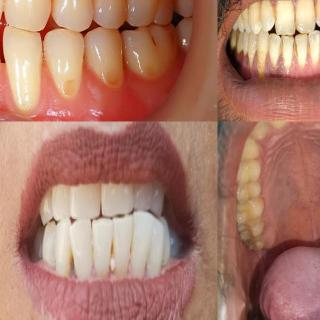Gum Swelling: (28, 65, 115, 122), (0, 65, 20, 111)
calculus: (105, 233, 119, 287), (61, 250, 81, 281), (89, 242, 101, 276)
cavities: (243, 239, 255, 252)
maligned: (132, 210, 152, 280), (70, 220, 94, 276), (149, 211, 163, 279), (260, 122, 292, 134)
stains: (291, 4, 303, 35), (176, 0, 200, 14), (250, 1, 262, 27), (267, 0, 279, 26), (290, 38, 300, 65), (277, 37, 287, 64), (304, 37, 314, 60), (310, 0, 320, 23)
